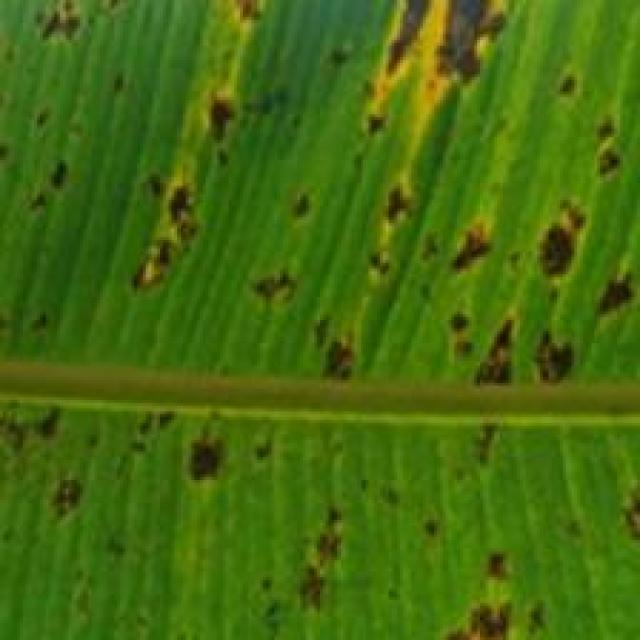Downey_mildrew: (0, 2, 640, 639)
